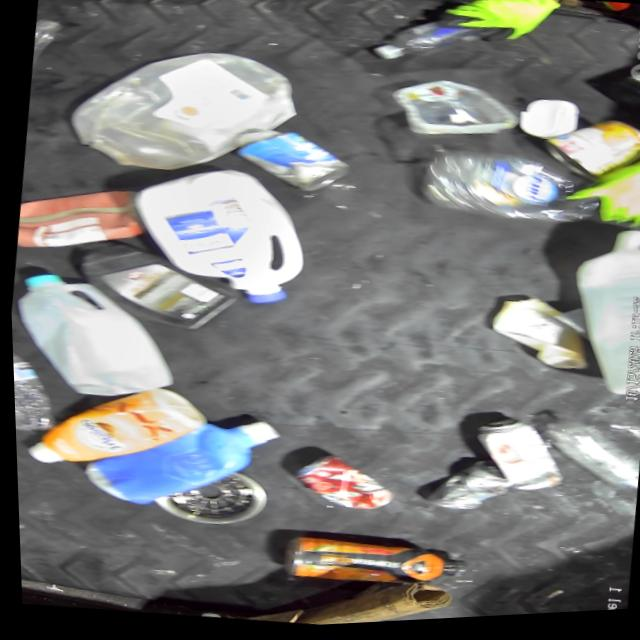can: (231, 129, 357, 204), (464, 414, 562, 498), (289, 453, 393, 523), (541, 120, 640, 189), (425, 458, 509, 523)
milk_jug: (56, 34, 300, 192), (119, 160, 310, 315), (8, 261, 186, 408), (552, 228, 640, 409)
non_white_jug: (74, 395, 276, 515), (22, 378, 204, 486)
plastic_bottle: (362, 13, 495, 75), (10, 331, 61, 437)
